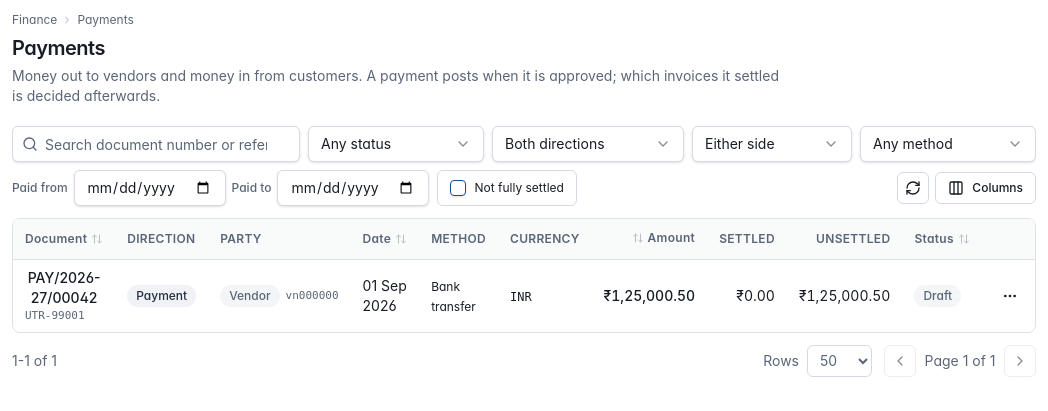
the two rights this screen spans › gives someone who may approve, and not record, exactly the approval controls
Expected: the button "PAY/2026-27/00042" is shown, [25, 268, 103, 308]
Click the button named "Actions for PAY/2026-27/00042" at (1010, 296), box [994, 280, 1026, 312]
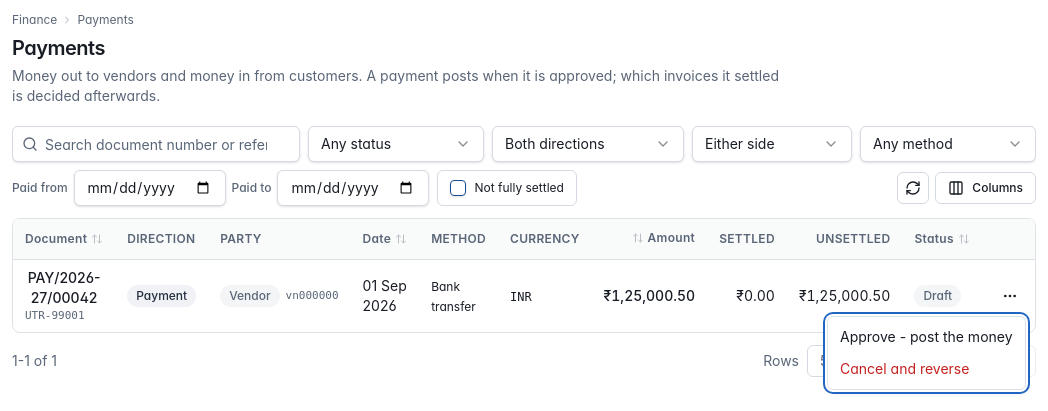
Now the menu item "Approve - post the money" is shown, box [840, 328, 1013, 345]
